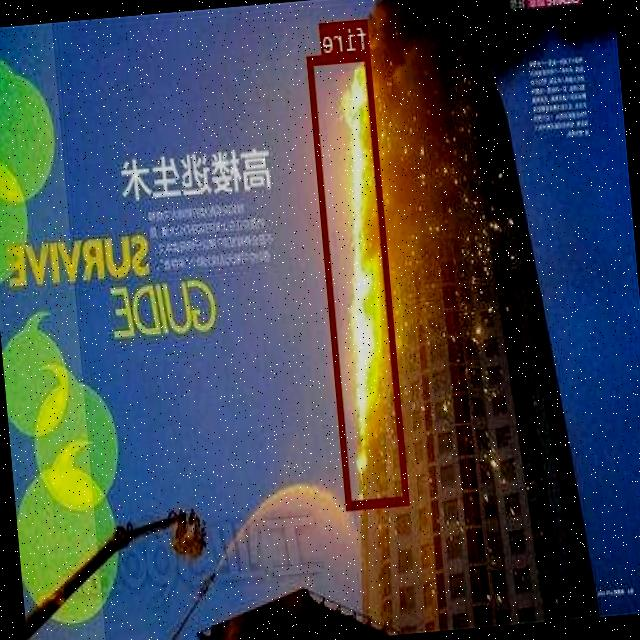fire: (307, 49, 410, 509)
